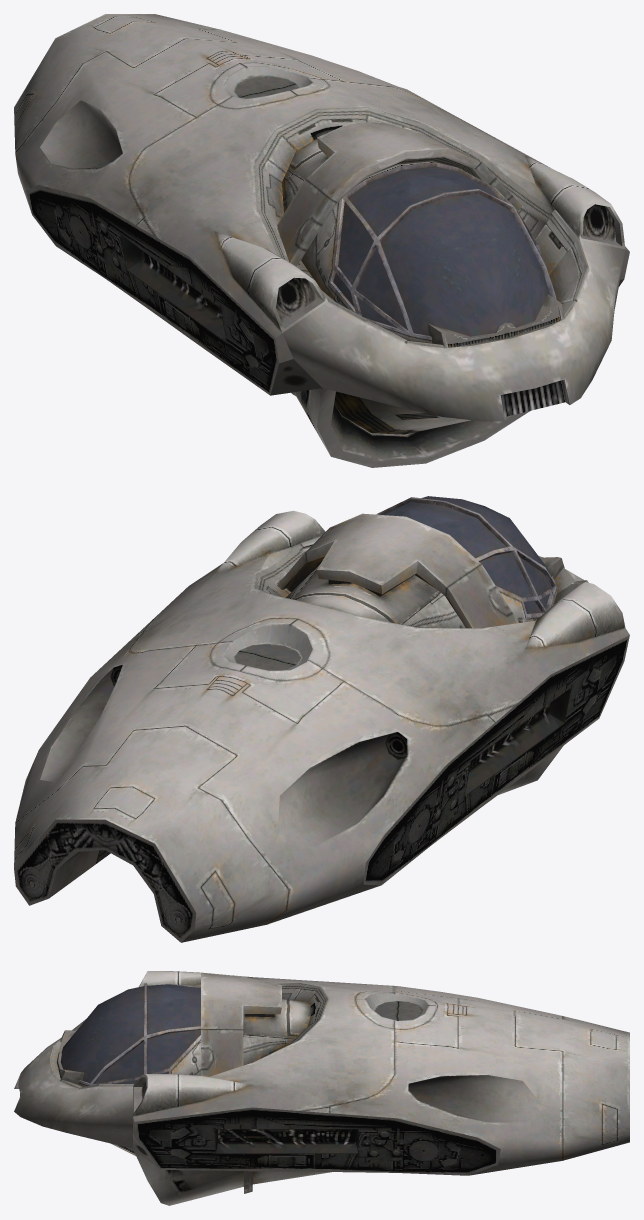
The model's file is hutt_fighter_light_body_s02_l0.fbx.
3 views of the same model, one above another, from view 1: azimuth 30°, elevation 25°; view 2: azimuth 150°, elevation 25°; view 3: azimuth 270°, elevation 25° (orthographic). The views are drawn at different scales.
Parts seen in each view (by area): view 1: mesh_node; view 2: mesh_node; view 3: mesh_node.
Boxes of the visible parts, left/top/right/bottom form: mesh_node: left=14, top=14, right=629, bottom=467; mesh_node: left=14, top=496, right=629, bottom=942; mesh_node: left=14, top=971, right=629, bottom=1205.
Size of the model in its own units: 3.91 by 3.07 by 8.09.
